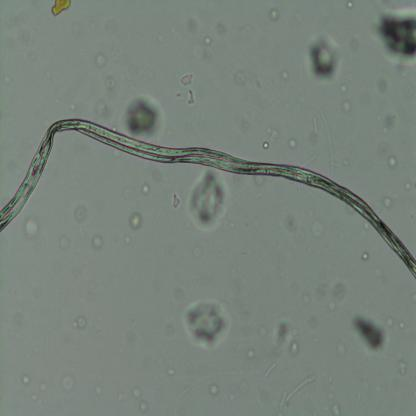Background material: (181, 291, 236, 356), (184, 166, 231, 235), (369, 7, 416, 67), (303, 30, 344, 86), (124, 97, 167, 140), (350, 316, 388, 358), (274, 317, 299, 358), (2, 300, 27, 332), (368, 74, 391, 99), (90, 92, 112, 118), (23, 215, 42, 243), (306, 208, 325, 236), (52, 230, 76, 251), (183, 13, 202, 39), (161, 316, 181, 340), (132, 384, 148, 412), (184, 237, 203, 258), (51, 0, 73, 18), (262, 126, 278, 149), (30, 380, 46, 401), (60, 371, 76, 392), (126, 211, 142, 231), (382, 114, 397, 135), (70, 314, 88, 331), (233, 68, 248, 88), (79, 205, 92, 228), (258, 316, 270, 340), (334, 281, 347, 302), (93, 51, 108, 69), (336, 340, 352, 356), (0, 70, 15, 87), (289, 216, 302, 235), (204, 36, 214, 60), (386, 154, 400, 171), (253, 172, 267, 189), (180, 72, 194, 87), (170, 192, 181, 211), (90, 236, 106, 249), (104, 74, 115, 92), (329, 403, 343, 416), (382, 194, 394, 209), (72, 23, 84, 38), (396, 358, 406, 376), (208, 381, 220, 396), (94, 378, 102, 400), (269, 9, 280, 24), (386, 312, 397, 327), (341, 99, 352, 114), (20, 373, 32, 386), (140, 182, 151, 196), (123, 232, 134, 246), (186, 89, 196, 104), (164, 364, 174, 378), (303, 288, 311, 305), (288, 138, 298, 149), (329, 298, 337, 311), (282, 69, 290, 81), (246, 348, 254, 359), (398, 319, 406, 329), (347, 1, 355, 10), (361, 253, 368, 262), (412, 296, 415, 300)
Cotton: (0, 118, 416, 280)
Glass filter fibre: (318, 108, 338, 175), (284, 372, 316, 402), (262, 361, 277, 378), (302, 154, 318, 168), (279, 390, 287, 407), (312, 114, 318, 135)
